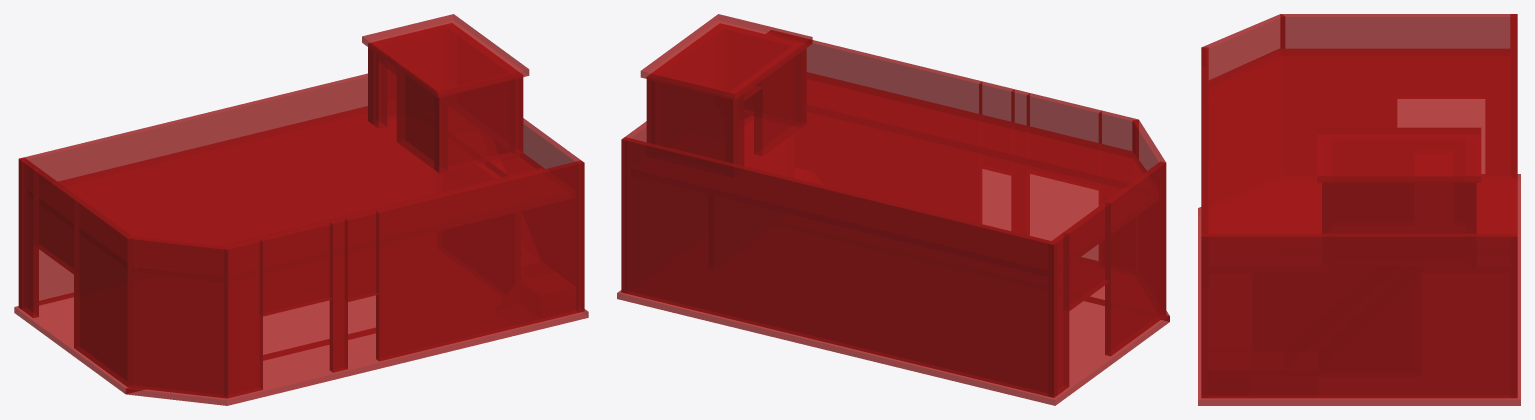
The model's file is SM_Bld_Shop_07_Collision.fbx.
3 renders of one model, left to right at view 1: azimuth 30°, elevation 25°; view 2: azimuth 150°, elevation 25°; view 3: azimuth 270°, elevation 25°, orthographic. The views are drawn at different scales.
Parts seen in each view (by area): view 1: SM_Bld_Shop_07_Collision; view 2: SM_Bld_Shop_07_Collision; view 3: SM_Bld_Shop_07_Collision.
Part boxes in pixels (x1,y1,x2,y2): SM_Bld_Shop_07_Collision: [14, 14, 588, 405]; SM_Bld_Shop_07_Collision: [617, 14, 1169, 405]; SM_Bld_Shop_07_Collision: [1198, 14, 1520, 405].
Size of the model in its own units: 1520 by 714 by 919.
